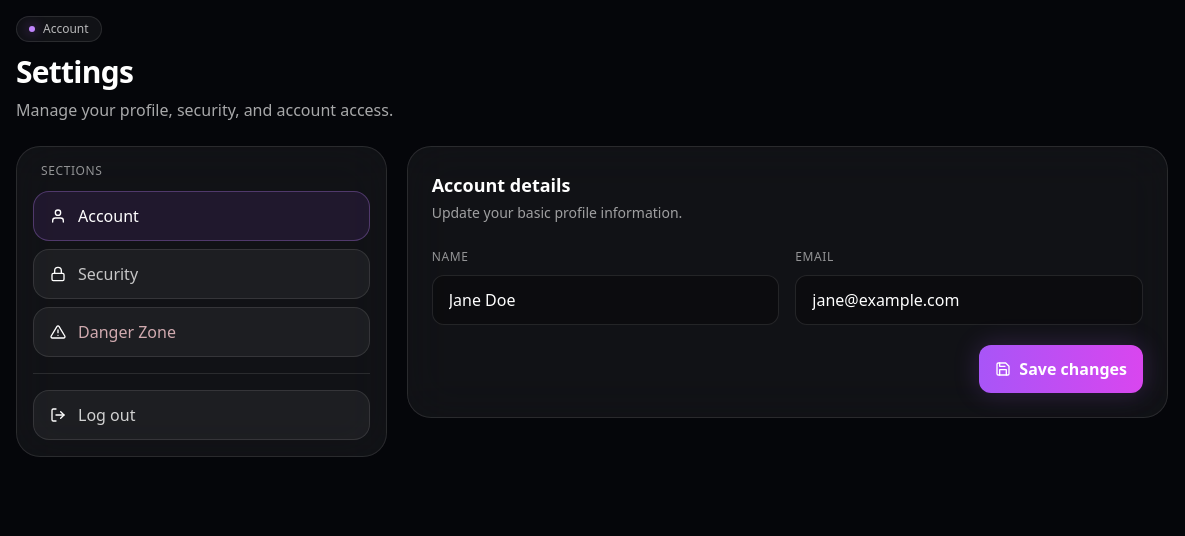
Scenario: Settings Page › updates profile successfully
The width and height of the screenshot is (1185, 536).
Replace the text in the field showing "Jane Doe" below "Name" with "Updated Name" at (606,300), box [432,275,779,325]
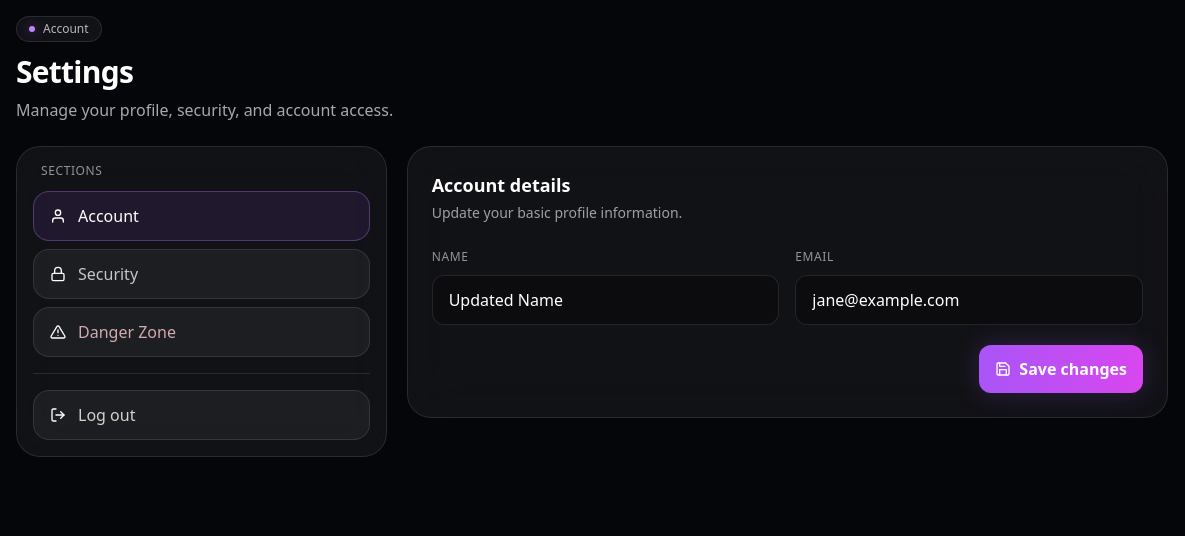
Click the button "Save changes" at (1061,369), box [979,345,1143,393]
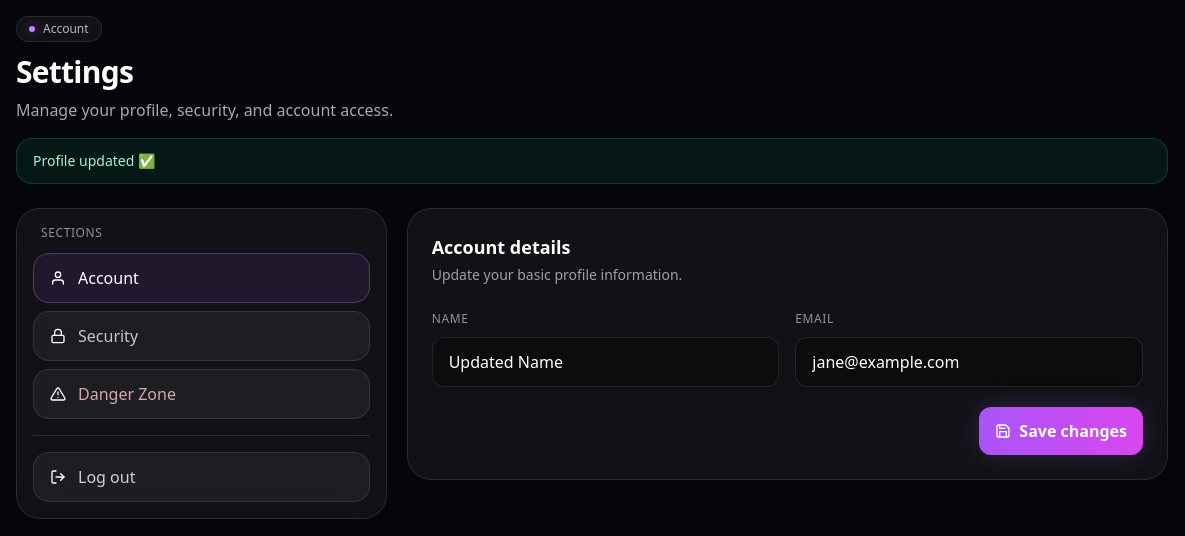
Expected: the text "Profile updated ✅" is shown, [16,138,1168,184]
